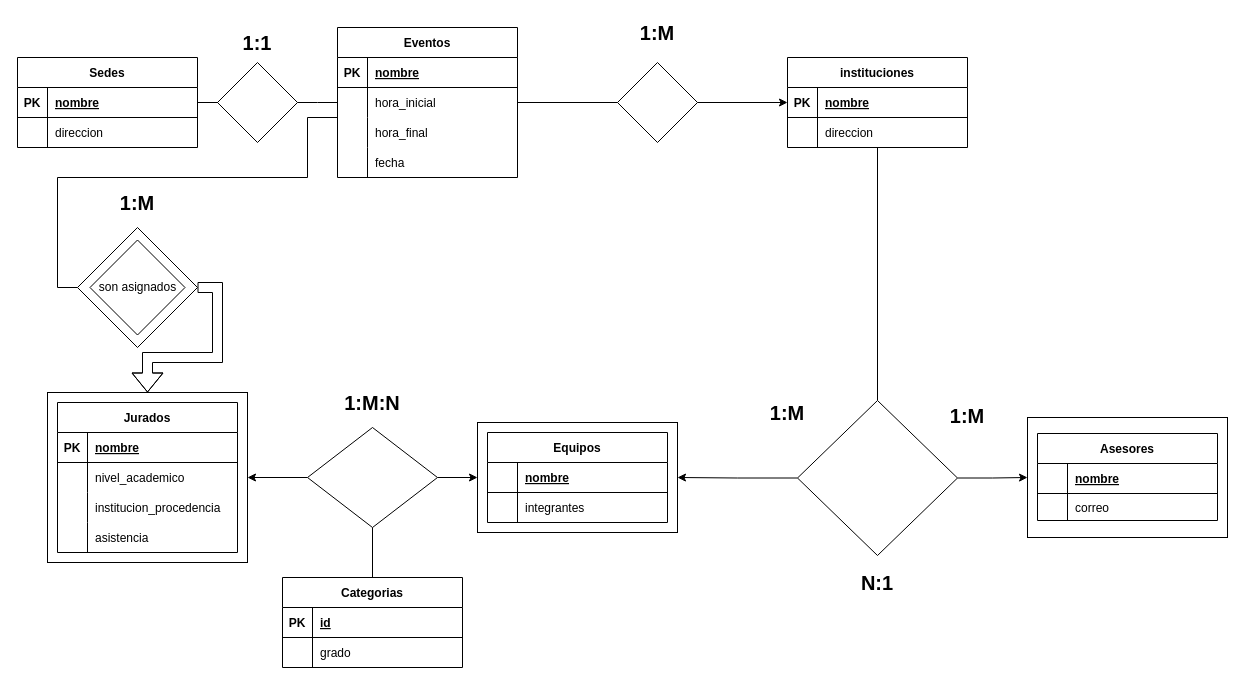
Some shapes in this 1245 by 685 pixel diagram are drawn without their labels. The centre of each missing label's shape, as x and y in pixels:
"es representada por... es asesorado por... es enviado por..." belongs at pixel 877 478.
"participa" belongs at pixel 657 102.
"participa en... califica a... califica en..." belongs at pixel 372 477.
"toma lugar" belongs at pixel 257 102.
